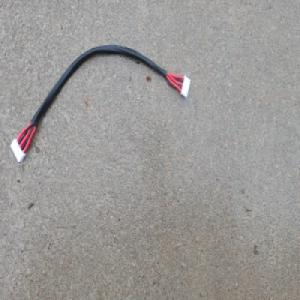Wire: (9, 42, 192, 164)
